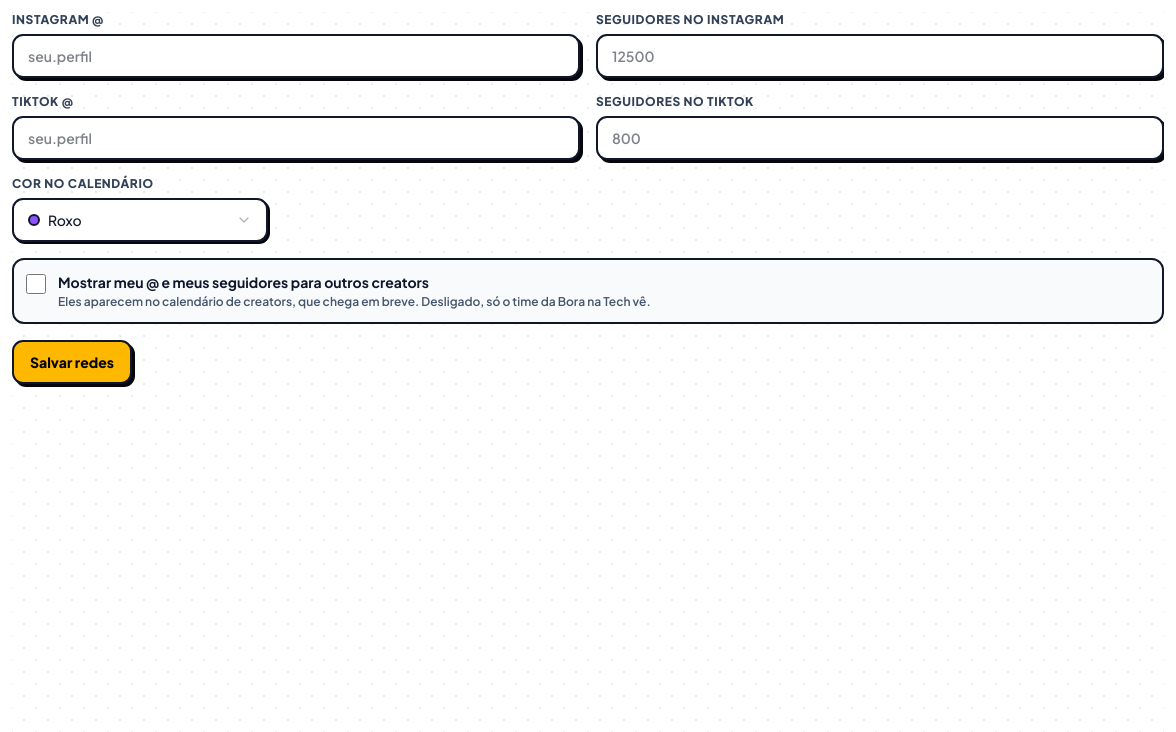
CreatorRedesForm: gravacao › seguidores com ponto de milhar: erro no campo, nada enviado
Type "1.200" into the field labelled "Seguidores no Instagram".
click(880, 56); type("1.200")  # box [596,34,1164,78]
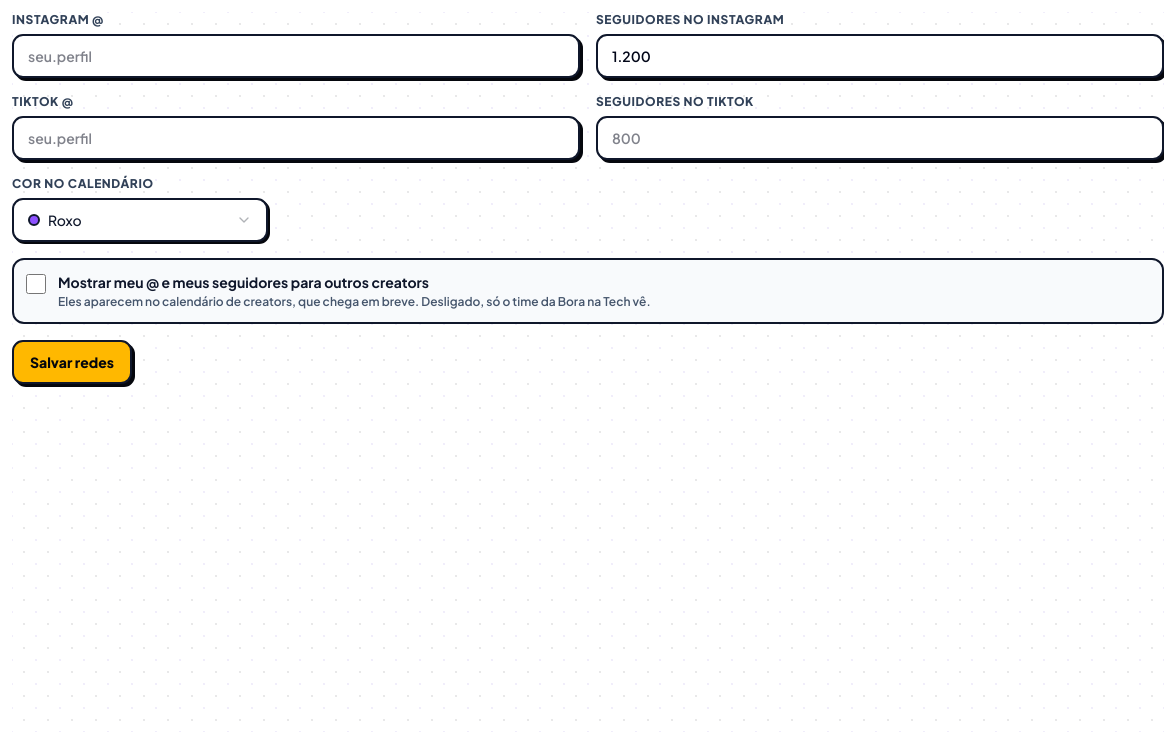
Click the button with test id "creator-perfil-salvar".
click(72, 362)  # box [12,340,132,384]
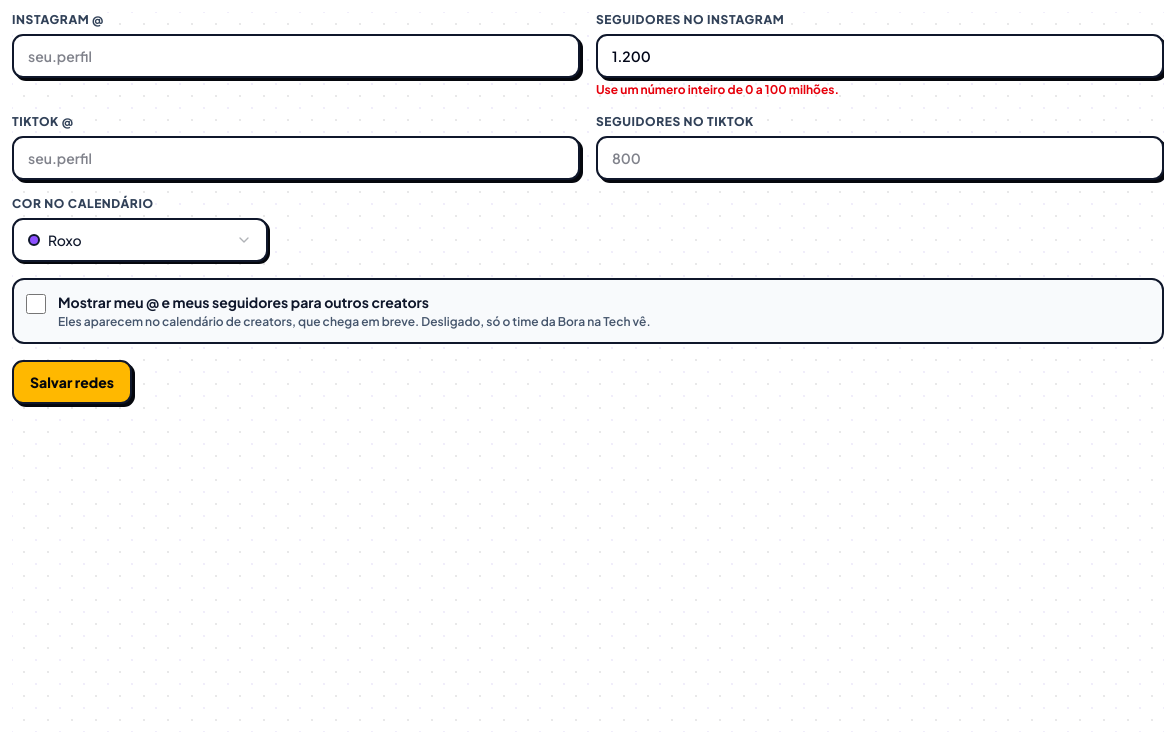
Expected: the text "Use um número inteiro de 0 a 100 milhões." is shown, [596,82,839,97]
